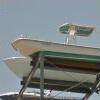Boat: (8, 20, 96, 96)
